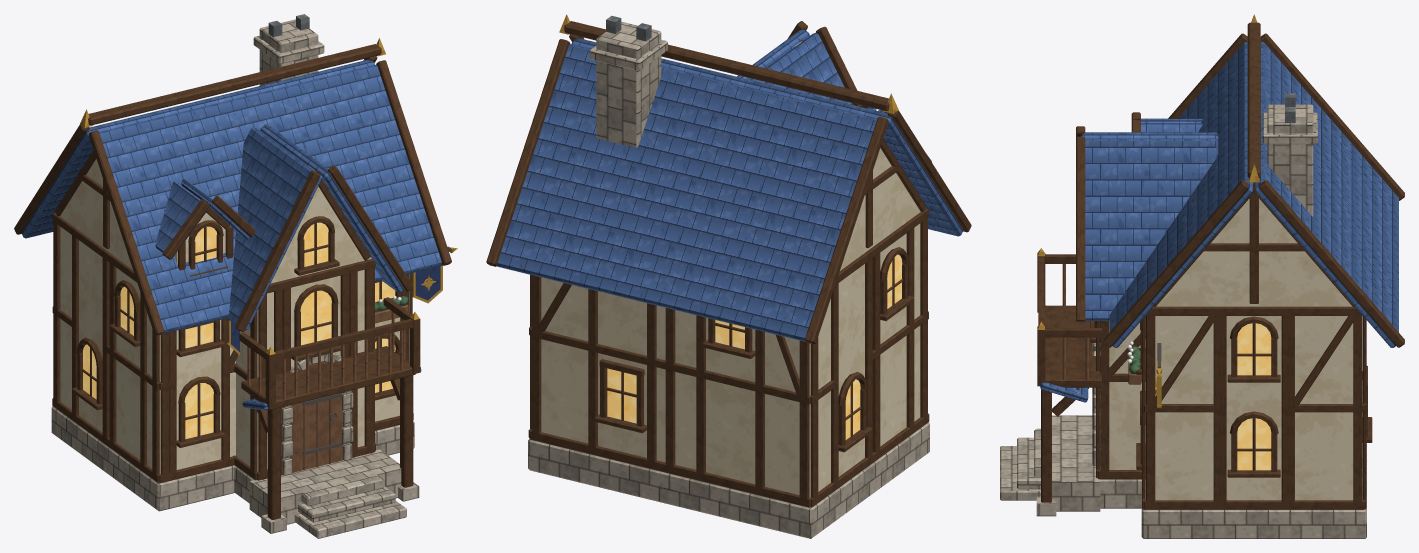
Rendered from party_inn.glb.
3 renders of one model, left to right at view 1: azimuth 30°, elevation 25°; view 2: azimuth 150°, elevation 25°; view 3: azimuth 270°, elevation 25°, orthographic. The views are drawn at different scales.
Parts seen in each view (by area): view 1: party_inn_walls, party_inn_roof, party_inn_balcony, party_inn_door_leaf, party_inn_hanging_sign; view 2: party_inn_walls, party_inn_roof; view 3: party_inn_walls, party_inn_roof, party_inn_balcony.
Boxes of the visible parts, x1,y1,x2,y2 form: party_inn_walls: (51, 14, 414, 538); party_inn_roof: (14, 38, 451, 410); party_inn_balcony: (239, 297, 420, 533); party_inn_door_leaf: (291, 361, 342, 472); party_inn_hanging_sign: (412, 265, 442, 303); party_inn_walls: (528, 15, 929, 538); party_inn_roof: (486, 14, 971, 344); party_inn_walls: (1000, 93, 1372, 538); party_inn_roof: (1040, 14, 1404, 402); party_inn_balcony: (1036, 248, 1101, 516).
Size of what is drawn, in the model's own units: 6.09 by 6.89 by 6.18.
15 materials, 15 textured.
